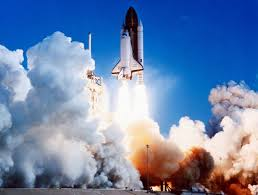ten_lua: (115, 8, 149, 89)
